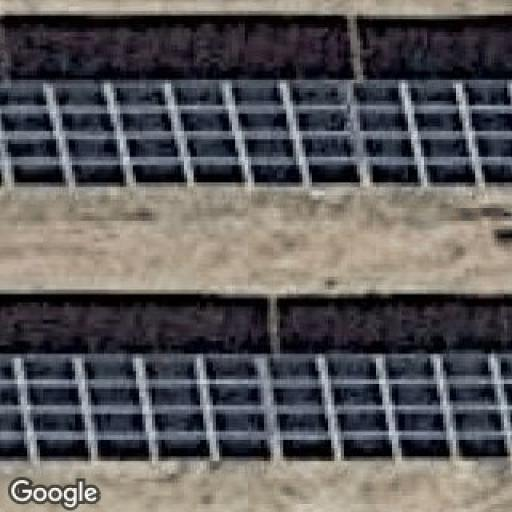solar-panel: (0, 80, 512, 190), (0, 360, 512, 458)
